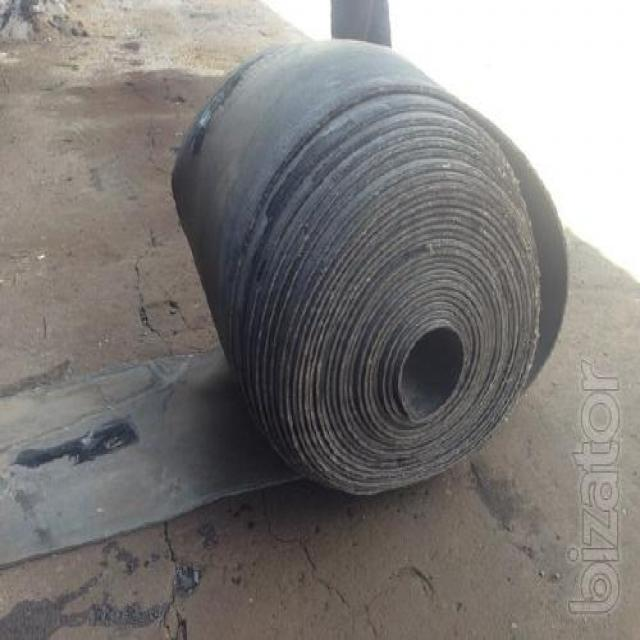convoyeur: (226, 80, 574, 514)
